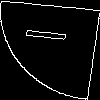I: (25, 25, 77, 46)
